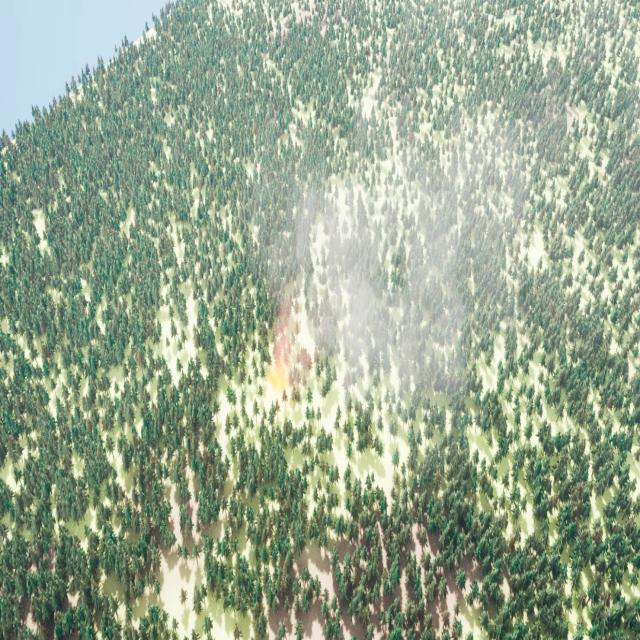fire: (268, 359, 289, 396)
smoke: (252, 48, 530, 400)
